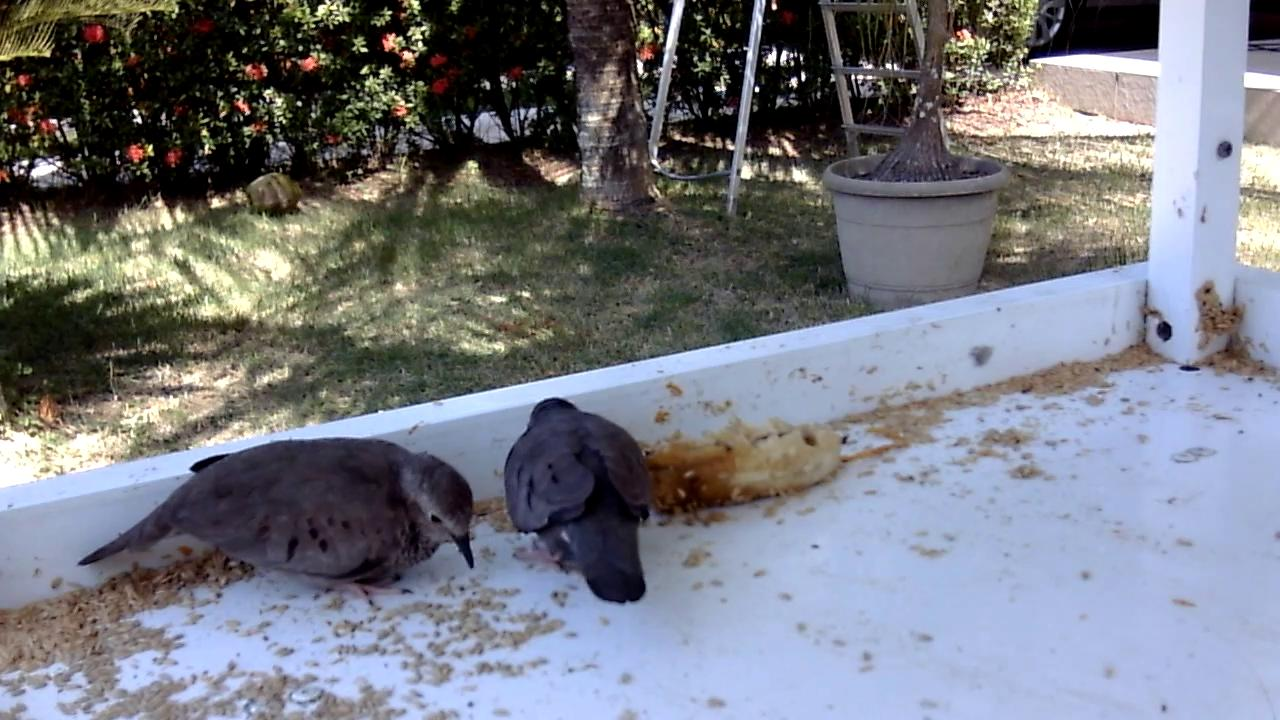rolinha: (75, 433, 483, 613), (500, 394, 656, 612)
